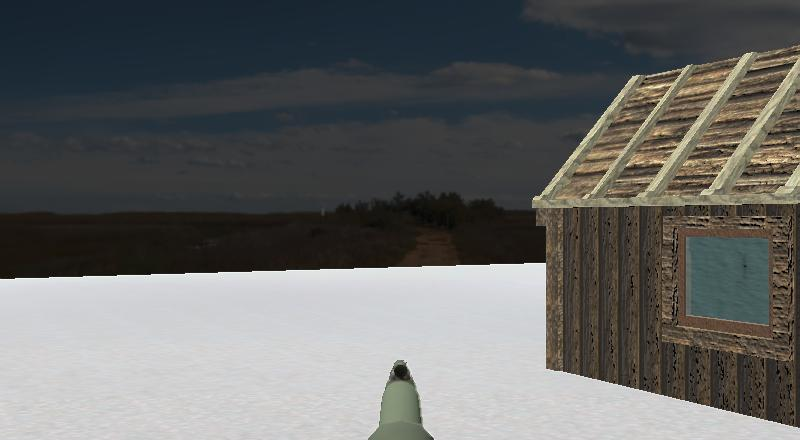House: (504, 21, 799, 438)
